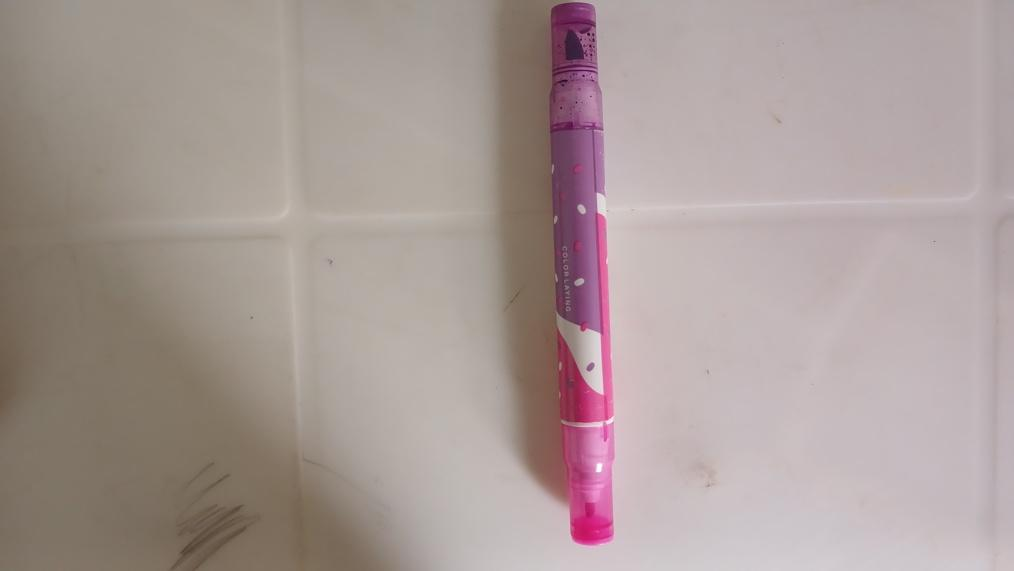Highlighter: (551, 4, 615, 549)
